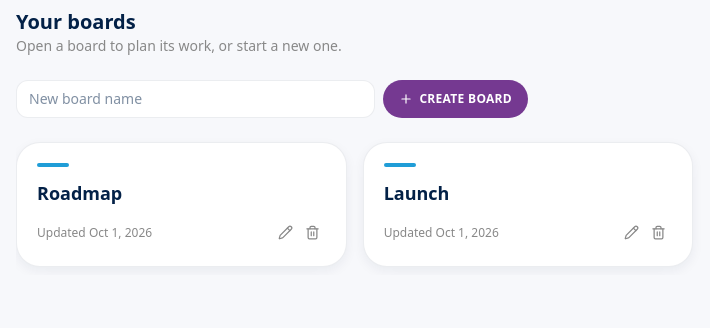
Test: BoardList › reports a failed change
Expected: the button "Roadmap" is shown, [37, 179, 326, 207]
Click the button named "Delete Roadmap" at [312, 232], box [299, 219, 326, 246]
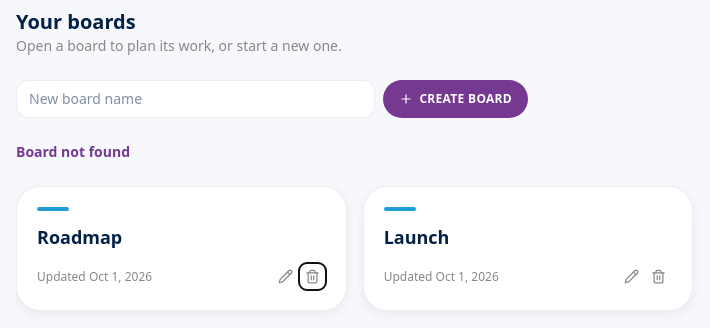
Expected: the number of list items is 2, [16, 186, 347, 311]; [363, 186, 693, 311]
Expected: the message reads "Board not found", [16, 142, 130, 161]
